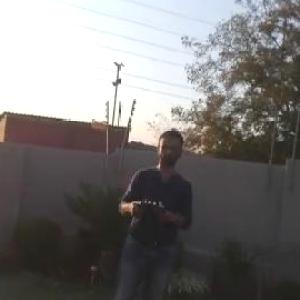follow: (103, 118, 200, 299)
